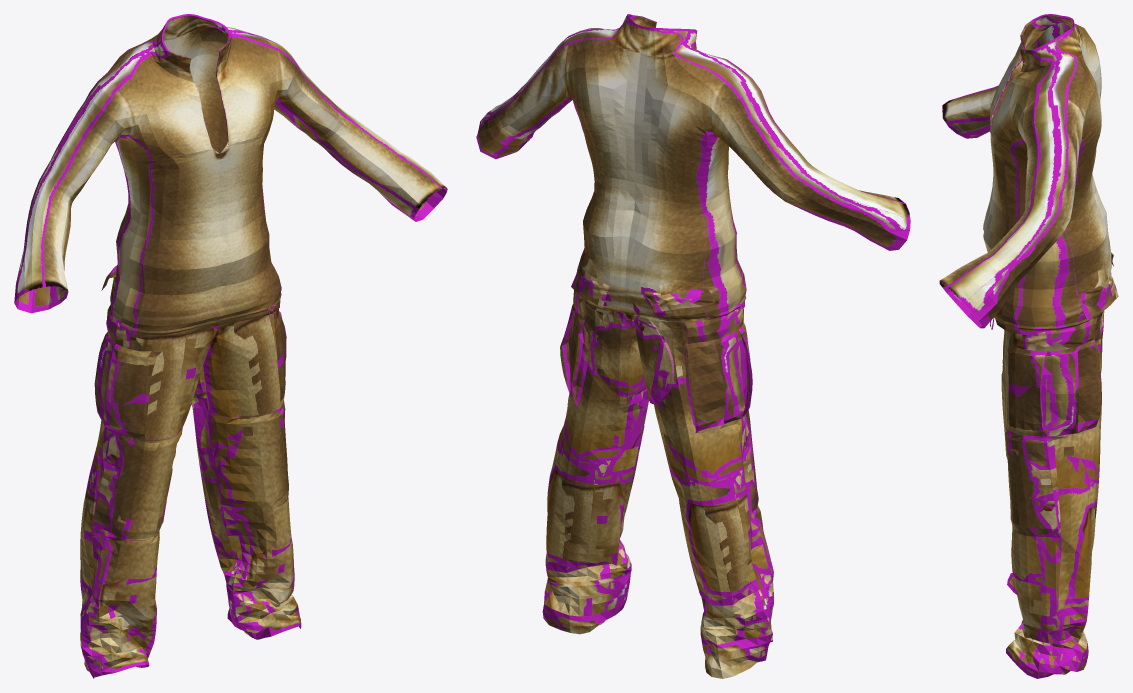
3 renders of one model, left to right at view 1: azimuth 30°, elevation 25°; view 2: azimuth 150°, elevation 25°; view 3: azimuth 270°, elevation 25°, orthographic. The views are drawn at different scales.
Bounding box in the file's own units: 0.8089 × 1.13 × 0.2985.
Materials: 1 (1 with a texture image).
